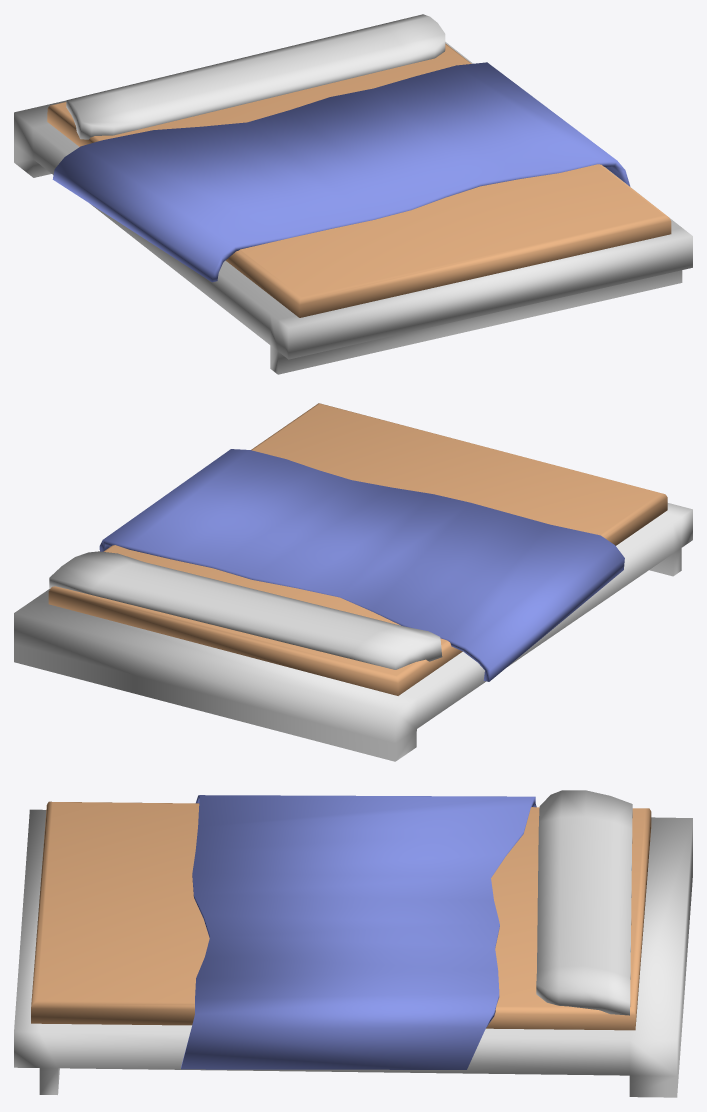
Rendered from SM_Bed.fbx.
3 renders of one model, top to bottom at view 1: azimuth 30°, elevation 25°; view 2: azimuth 150°, elevation 25°; view 3: azimuth 270°, elevation 25°, orthographic. The views are drawn at different scales.
Parts seen in each view (by area): view 1: SM_Bed; view 2: SM_Bed; view 3: SM_Bed.
Boxes of the visible parts, <box> form: SM_Bed: <box>14,14,692,374</box>; SM_Bed: <box>14,403,692,761</box>; SM_Bed: <box>14,790,692,1097</box>.
Bounding box in the file's own units: 461 × 90.34 × 554.
